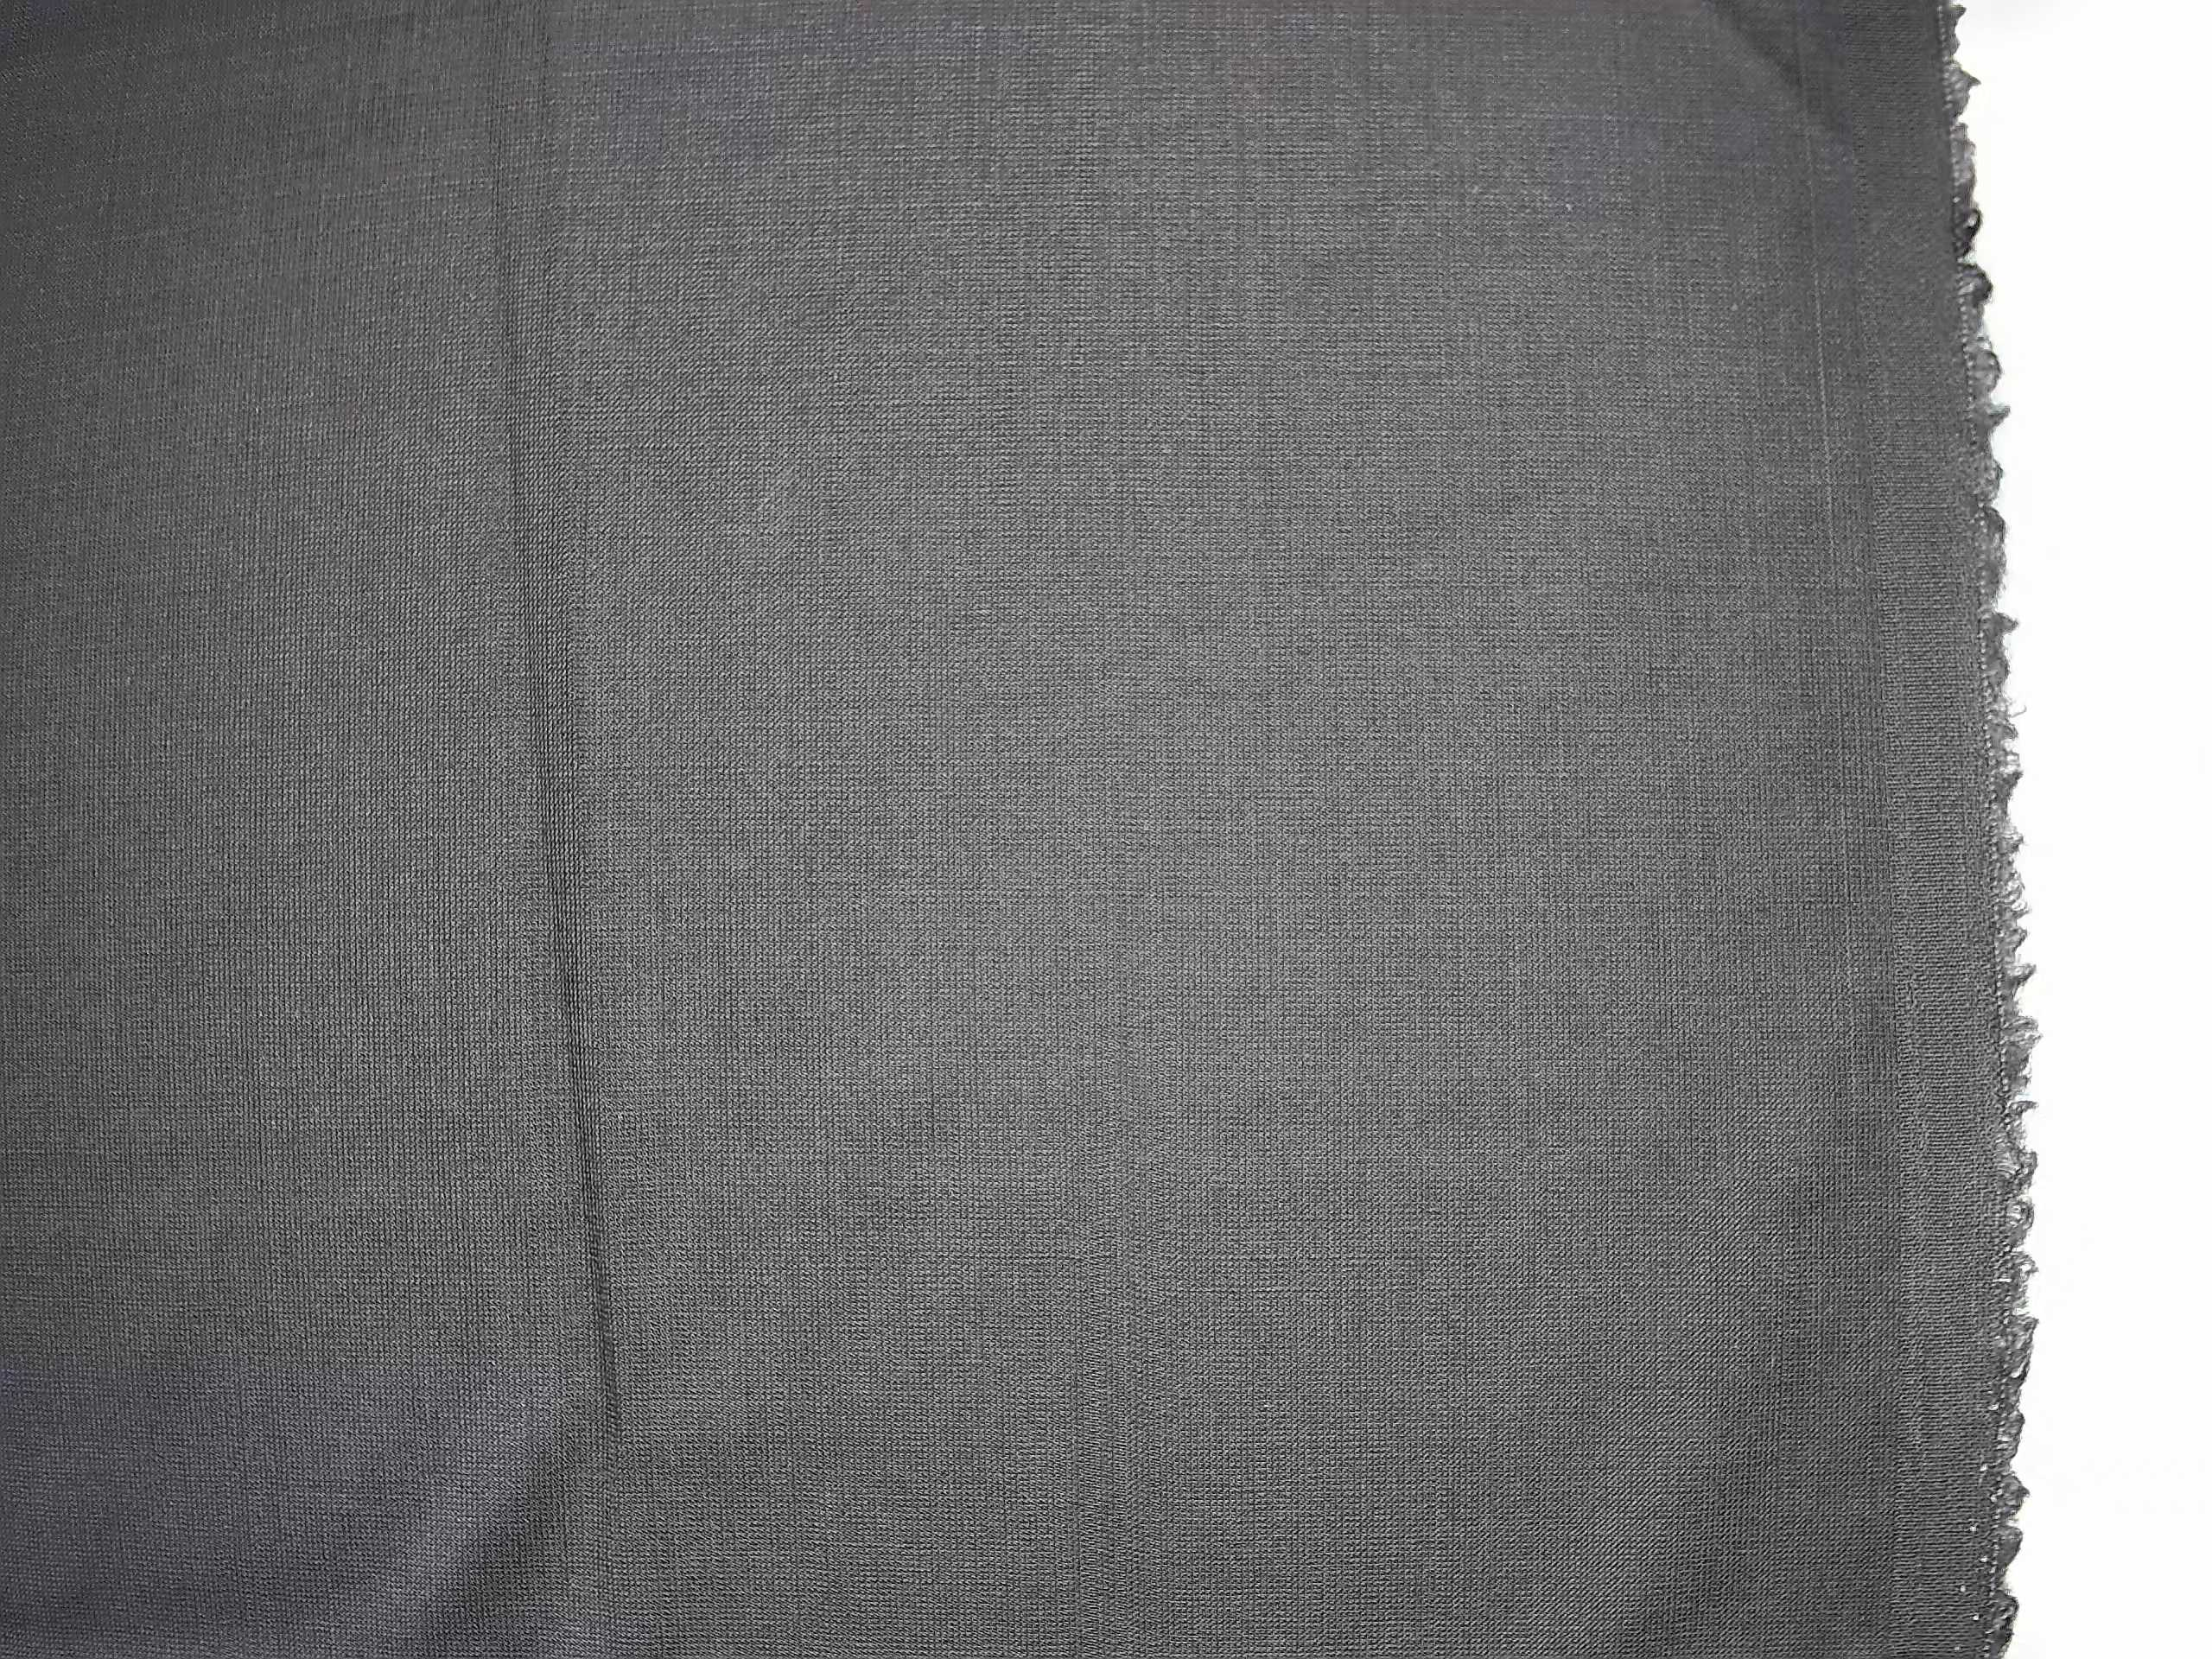others: (1468, 880, 1900, 931)
